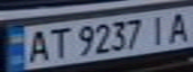2: (90, 20, 115, 56)
3: (109, 18, 130, 53)
7: (124, 16, 148, 50)
9: (75, 21, 96, 57)
A: (21, 27, 54, 63), (163, 8, 193, 44)
I: (145, 11, 172, 45)
T: (45, 25, 72, 61)
